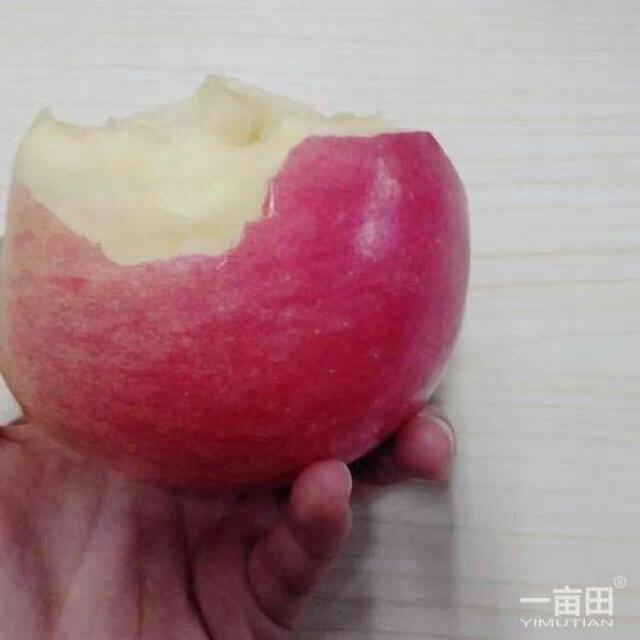Rotten: (13, 97, 472, 512)
